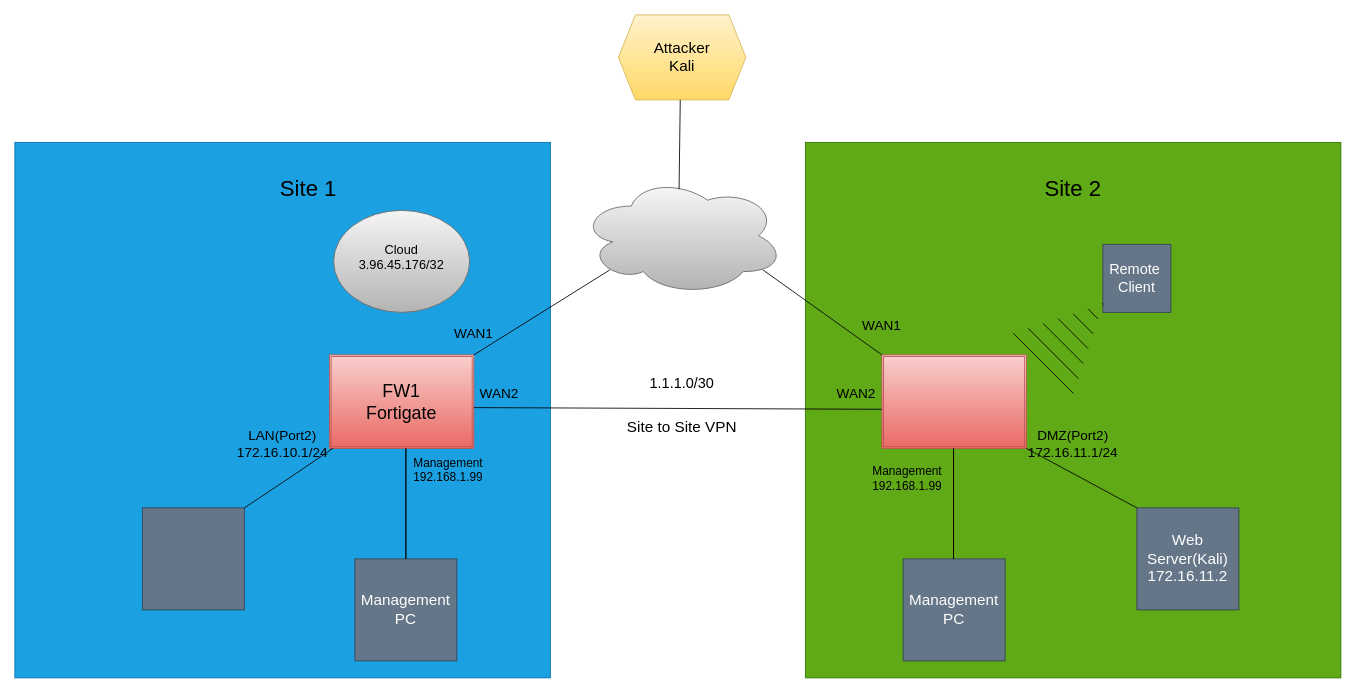
Image size: 1356x693. Some labels were removed from this diagram. Each missing label, with the centre of its shape:
FW2 Fortigate: point (953, 401)
internet: point (681, 235)
PC! 172.16.10.2: point (193, 558)
